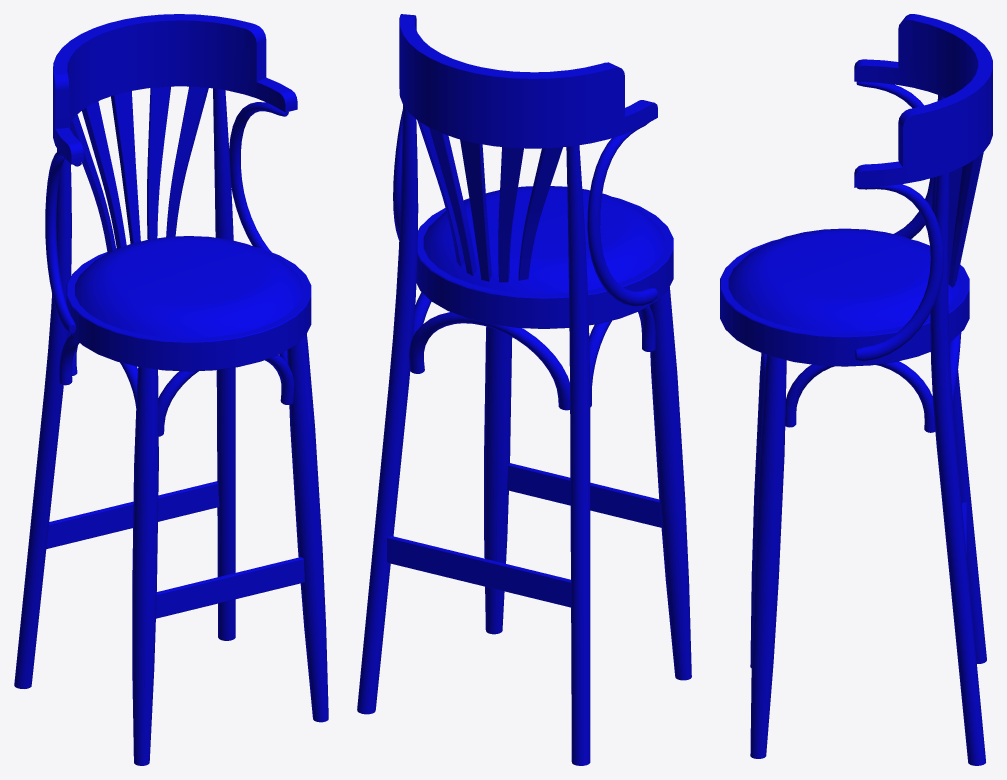
Rendered from Mesh_Chair.fbx.
The picture shows the model from 3 angles, left to right: view 1: azimuth 30°, elevation 25°; view 2: azimuth 150°, elevation 25°; view 3: azimuth 270°, elevation 25°; orthographic projection. The views are drawn at different scales.
Parts seen in each view (by area): view 1: polySurface105; view 2: polySurface105; view 3: polySurface105.
Boxes of the visible parts, box(x1,y1,x2,y2) form: polySurface105: box(14, 14, 328, 765); polySurface105: box(357, 14, 691, 765); polySurface105: box(720, 14, 992, 765).
Size of the model in its own units: 39.85 by 106 by 40.67.
